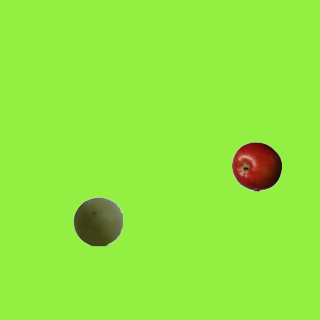Apple Braeburn: (231, 141, 281, 191)
Grape White 4: (72, 196, 122, 246)
